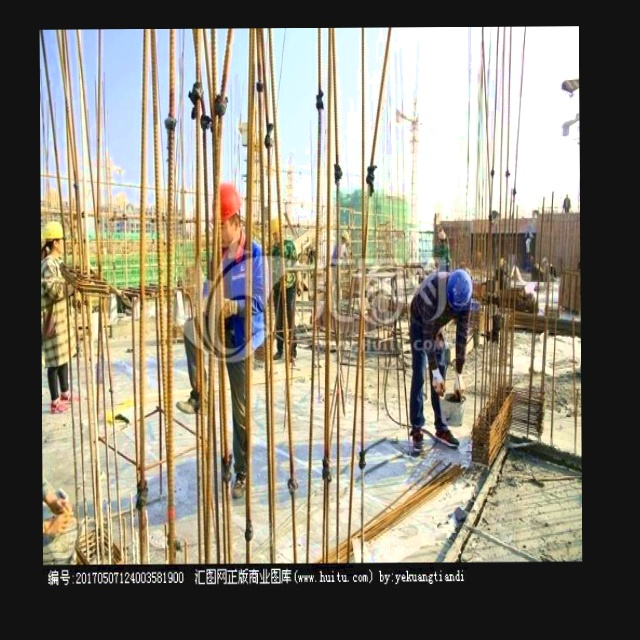Con_Casco: (211, 183, 244, 234), (449, 271, 474, 310), (43, 222, 66, 259)
